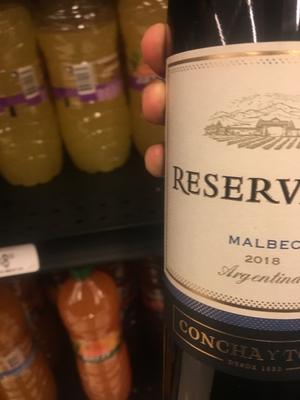reservado malbec: (151, 6, 300, 394)
